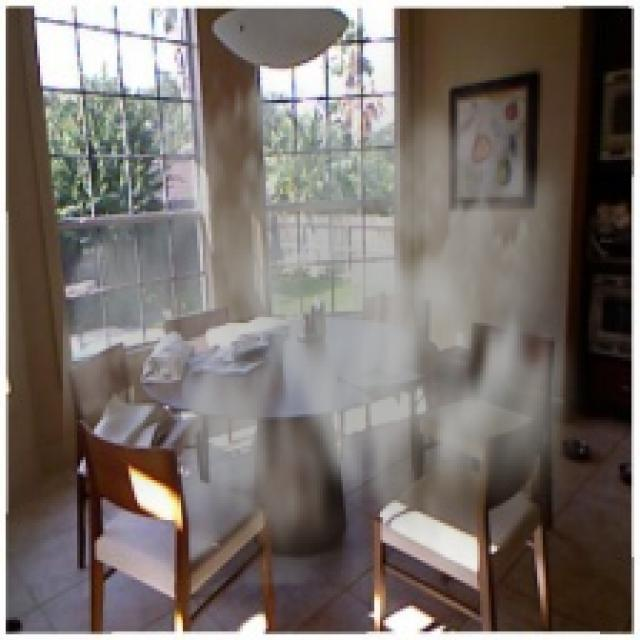Smoke: (62, 17, 608, 586)
